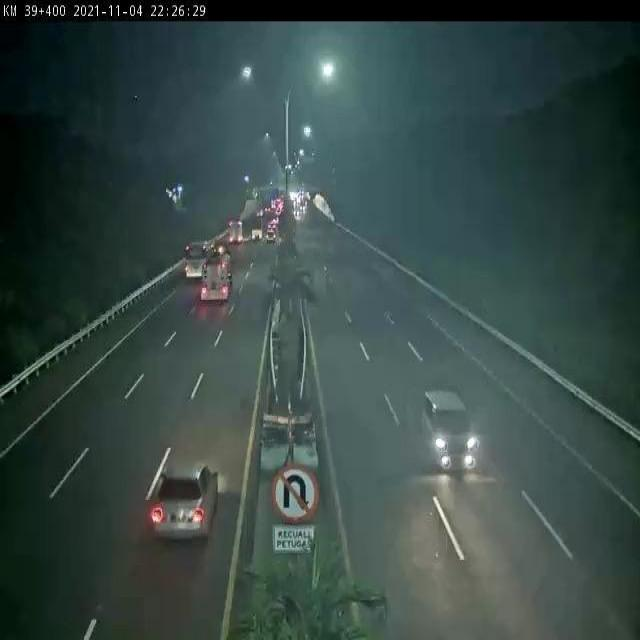bus-l-: (181, 232, 220, 285)
car: (402, 379, 509, 516), (145, 439, 237, 561)
truck-l-: (199, 245, 235, 304)
truck-m-: (221, 215, 246, 253)
